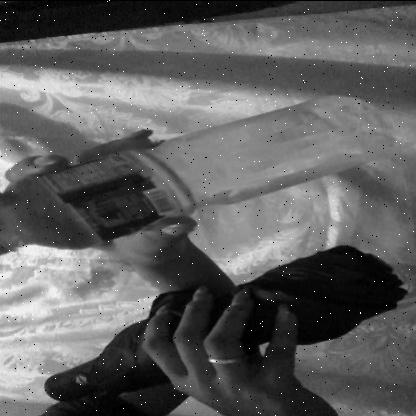Plastic Bottle: (1, 77, 393, 241)
